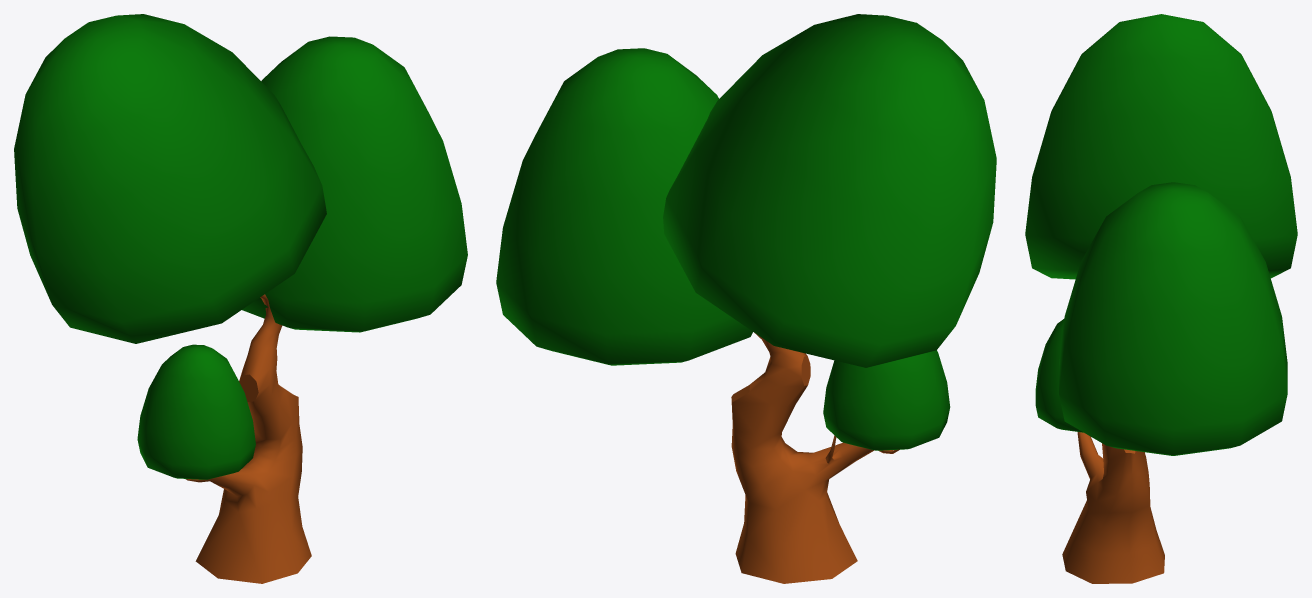
The model's file is SM_Tree_P_2.fbx.
3 views of the same model, side by side, from view 1: azimuth 30°, elevation 25°; view 2: azimuth 150°, elevation 25°; view 3: azimuth 270°, elevation 25° (orthographic). The views are drawn at different scales.
Visible parts, largest first — view 1: SM_Tree_P_2; view 2: SM_Tree_P_2; view 3: SM_Tree_P_2.
Part boxes in pixels (x1=…): SM_Tree_P_2: x1=14, y1=14, x2=467, y2=583; SM_Tree_P_2: x1=496, y1=14, x2=996, y2=583; SM_Tree_P_2: x1=1025, y1=14, x2=1297, y2=583.
Size of the model in its own units: 1046 by 1269 by 628.
